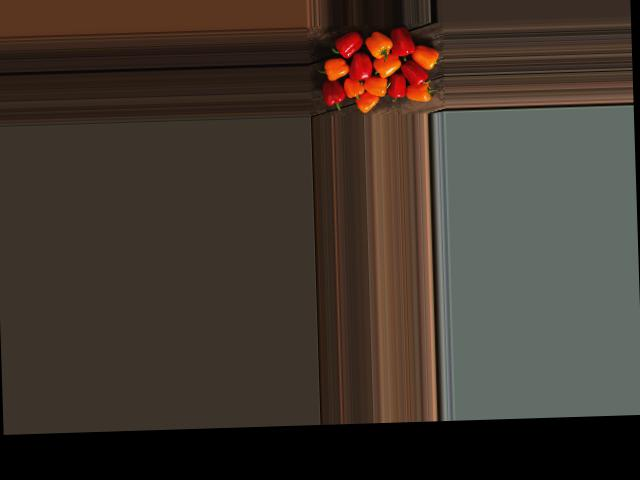bell_pepper: (404, 39, 440, 70)
